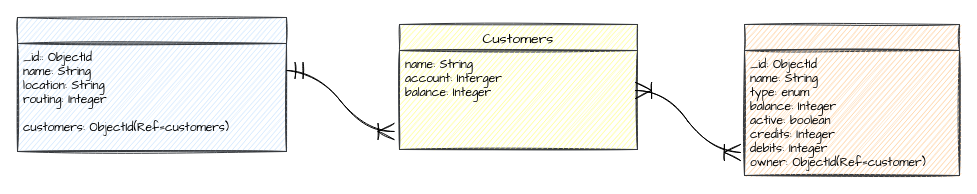
This 977x194 diagram has some shape labels left out. The shapes that lost their labels are listed below. From the top down, each one's box as (x1, y1, x2, y2) in pixels, then its label:
(16, 16, 286, 152): Bank
(744, 24, 960, 176): Accounts
